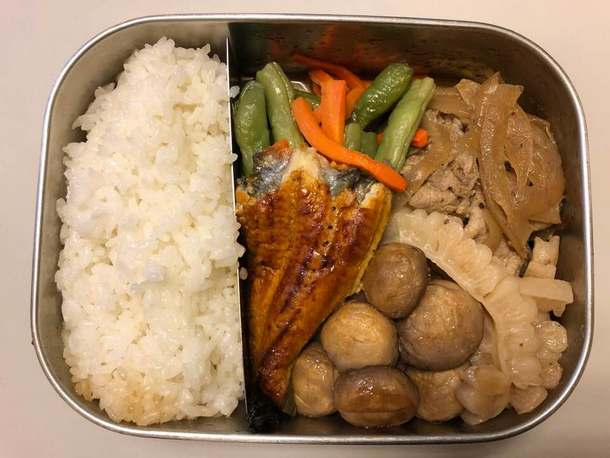rice: (61, 44, 233, 428)
